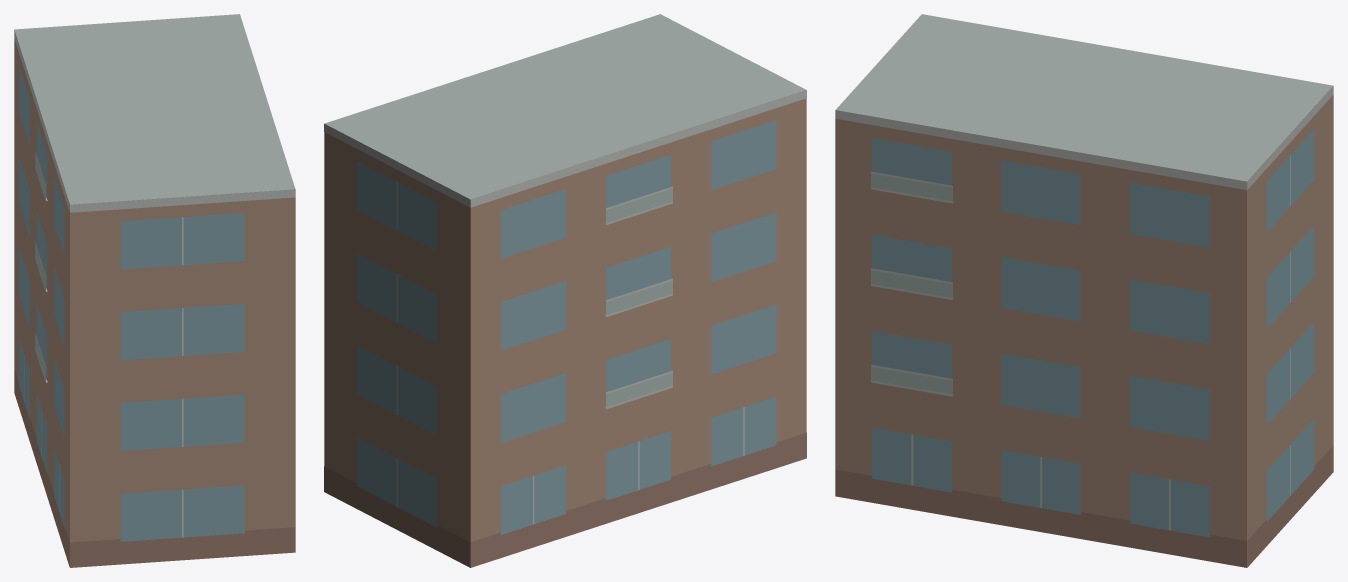
The model's file is survey-upis-32531511.glb.
3 views of the same model, side by side, from view 1: azimuth 30°, elevation 25°; view 2: azimuth 150°, elevation 25°; view 3: azimuth 270°, elevation 25° (orthographic). The views are drawn at different scales.
Parts seen in each view (by area): view 1: survey-upis-32531511.tmp; view 2: survey-upis-32531511.tmp; view 3: survey-upis-32531511.tmp.
Part boxes in pixels (<box>): survey-upis-32531511.tmp: <box>14,14,295,567</box>; survey-upis-32531511.tmp: <box>324,14,806,567</box>; survey-upis-32531511.tmp: <box>835,14,1333,567</box>.
Bounding box in the file's own units: 10.15 × 10.9 × 12.75.
